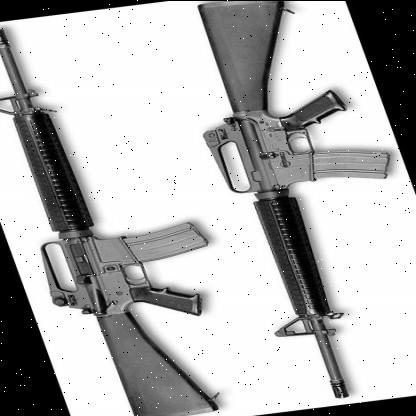rifle: (1, 12, 266, 416), (158, 0, 416, 404)
